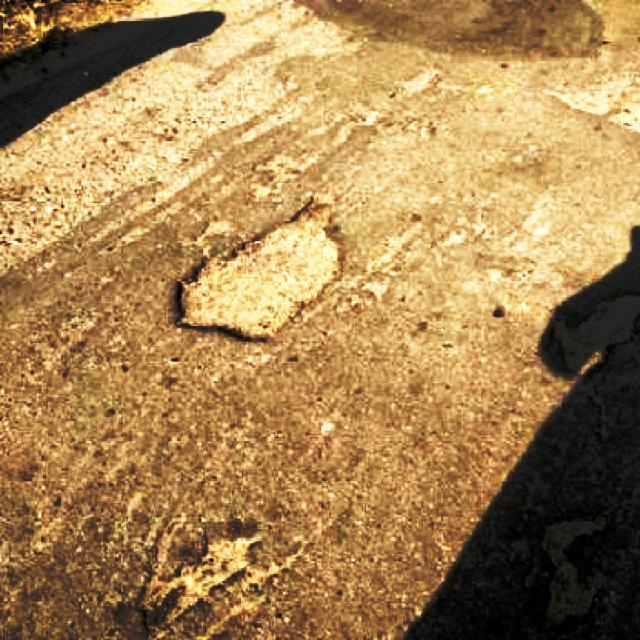pothole: (169, 195, 345, 340), (134, 520, 278, 637), (546, 511, 617, 631), (551, 290, 640, 382), (551, 65, 640, 132)
